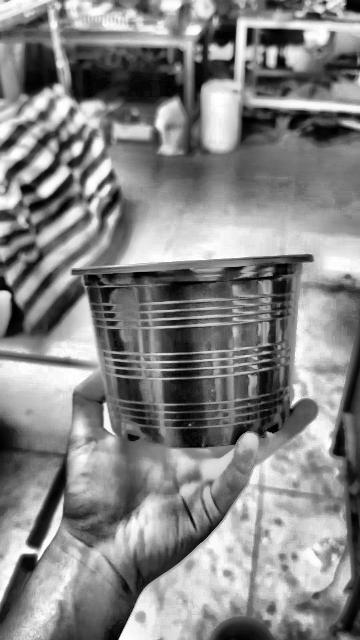pot: (74, 256, 311, 449)
